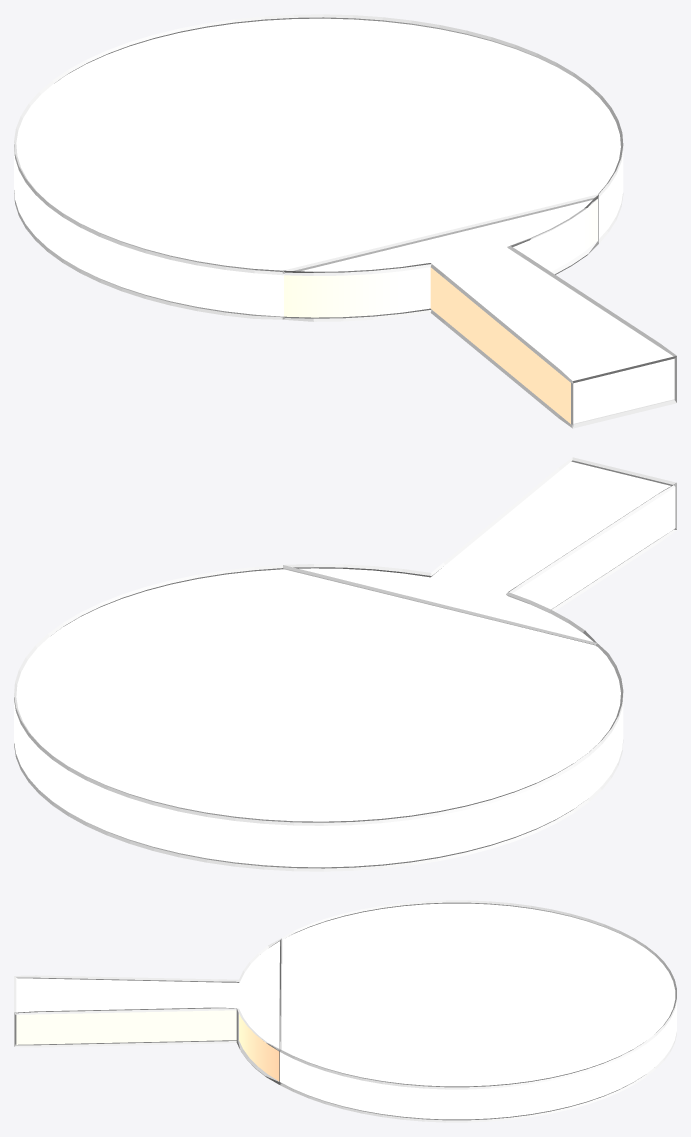
File: RACKET.glb
The picture shows the model from 3 angles, top to bottom: view 1: azimuth 30°, elevation 25°; view 2: azimuth 150°, elevation 25°; view 3: azimuth 270°, elevation 25°; orthographic projection. The views are drawn at different scales.
Parts seen in each view (by area): view 1: RACKET.001; view 2: RACKET.001; view 3: RACKET.001.
Part boxes in pixels (x1=…): RACKET.001: x1=14, y1=14, x2=676, y2=428; RACKET.001: x1=14, y1=457, x2=676, y2=871; RACKET.001: x1=14, y1=900, x2=676, y2=1122.
Bounding box in the file's own units: 2 × 0.1812 × 3.01.
